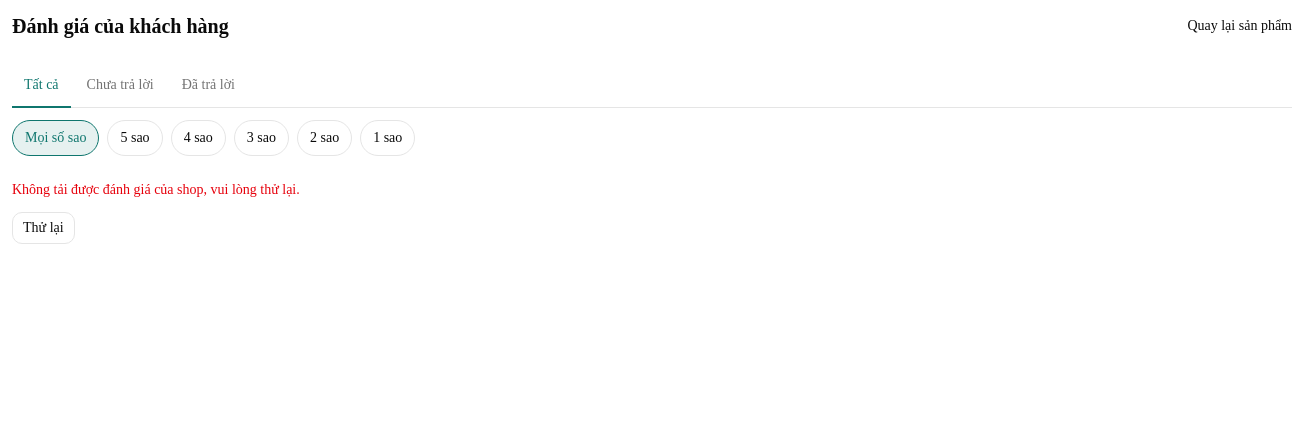
it: SellerReviewsContainer › lỗi tải lần đầu: thông báo role=alert + nút "Thử lại" tải lại được
Check: the message shows "Không tải được đánh giá của shop", box [12,182,300,197]
Click the button "Thử lại": (43, 228) [12,212,75,244]
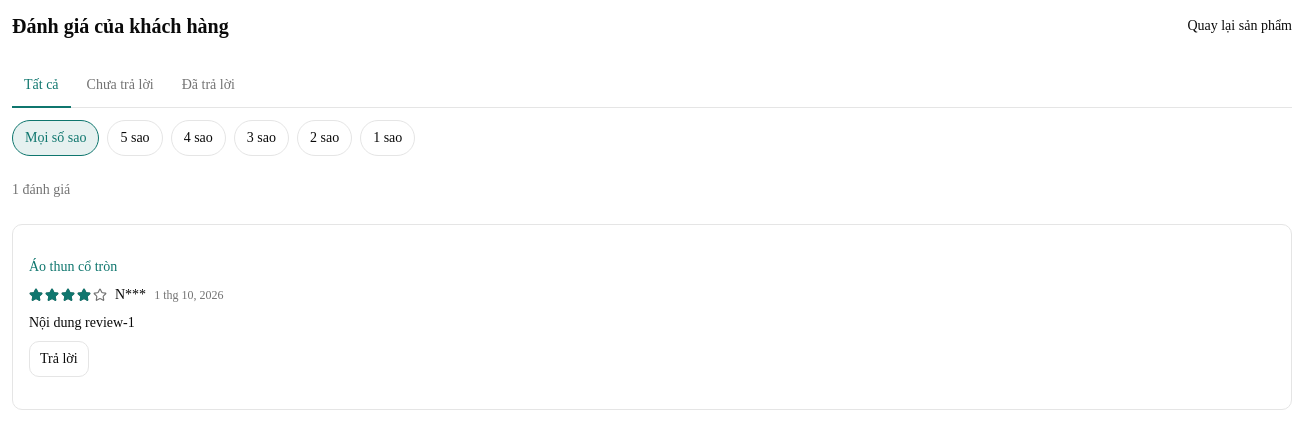
Check: the text "Nội dung review-1" is shown, box [29,315,135,330]
Check: the message "Không tải được đánh giá của shop, vui lòng thử lại." is gone
